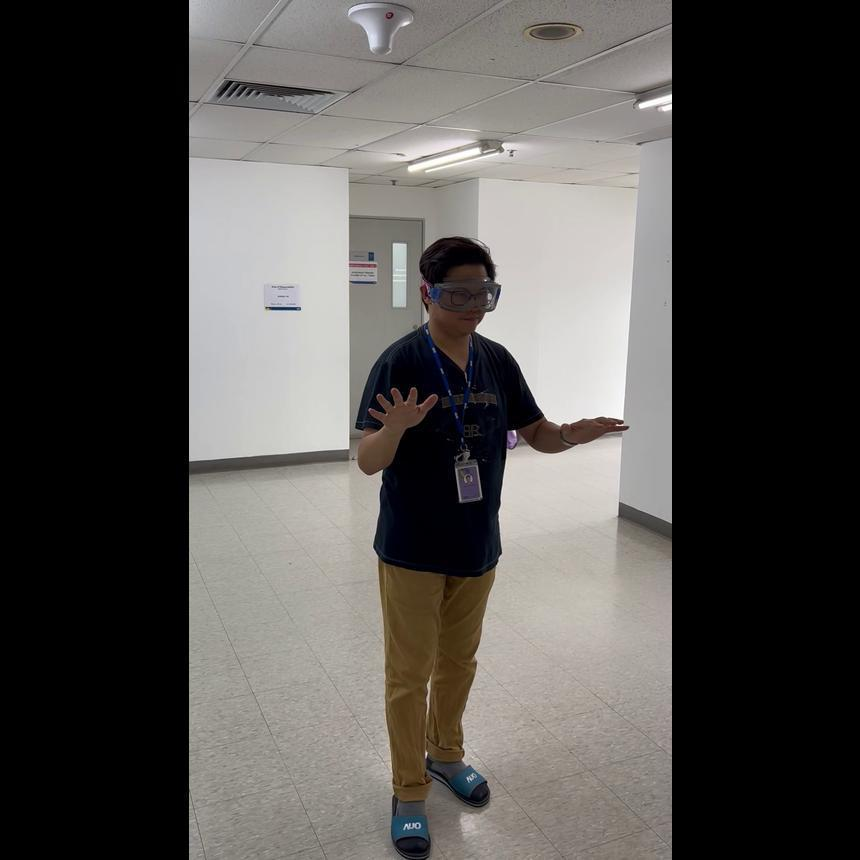No-gloves: (365, 378, 438, 437), (556, 409, 630, 446)
